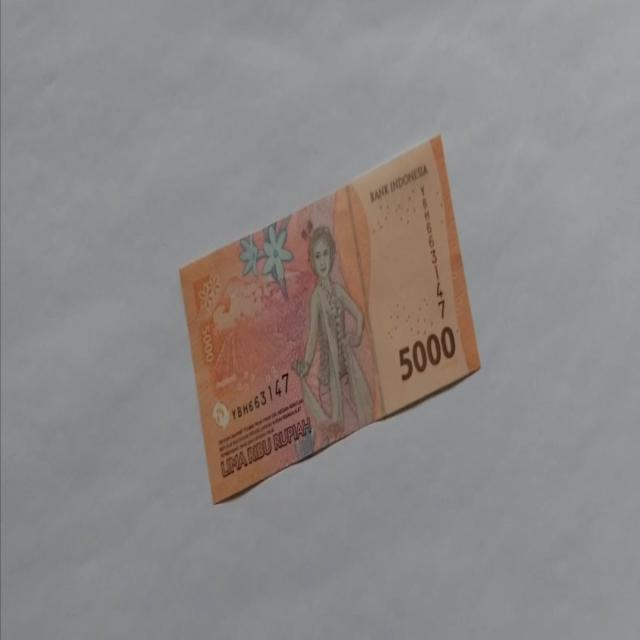lima ribu rupiah: (177, 132, 481, 504), (290, 224, 374, 446)
